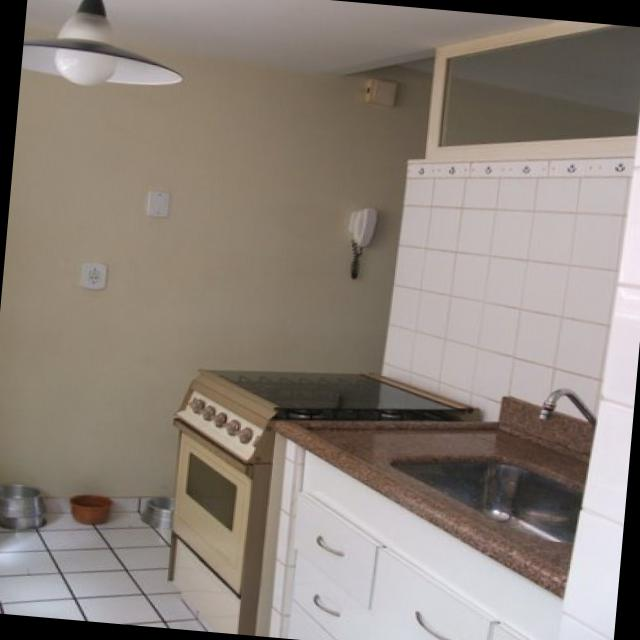Handle: (411, 610, 458, 640)
alarm clock: (366, 77, 394, 103)
car crop: (153, 271, 260, 334)
drawer handle: (288, 489, 376, 608)
light fixture: (22, 0, 182, 86)
light switch: (79, 261, 106, 288)
phone charger: (348, 206, 376, 244)
plane: (147, 188, 172, 215)
sink basin: (393, 459, 580, 542)
stove burner: (167, 369, 480, 634)
tile wall: (526, 208, 571, 267)
